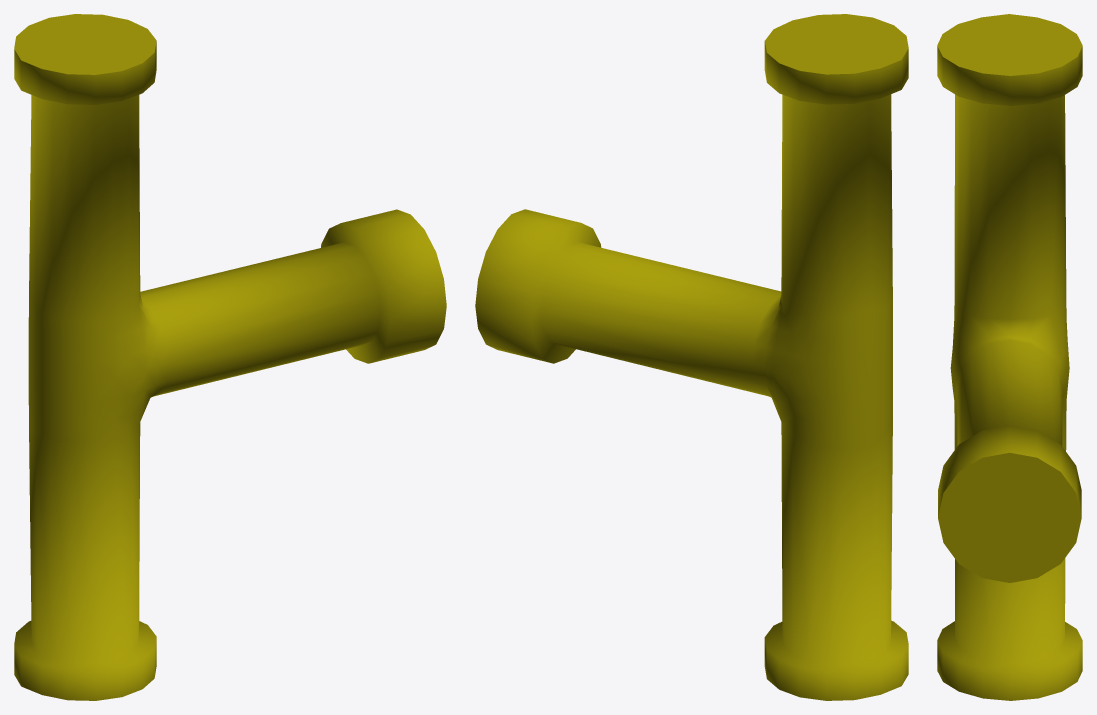
The model's file is _ipe10_low.fbx.
The picture shows the model from 3 angles, left to right: view 1: azimuth 30°, elevation 25°; view 2: azimuth 150°, elevation 25°; view 3: azimuth 270°, elevation 25°; orthographic projection.
Visible parts, largest first — view 1: Pipe10_low; view 2: Pipe10_low; view 3: Pipe10_low.
Boxes of the visible parts, box(x1,y1,x2,y2) form: Pipe10_low: box(14, 14, 446, 700); Pipe10_low: box(475, 14, 908, 700); Pipe10_low: box(937, 14, 1082, 700).
Size of the model in its own units: 19.45 by 29.85 by 6.3.
